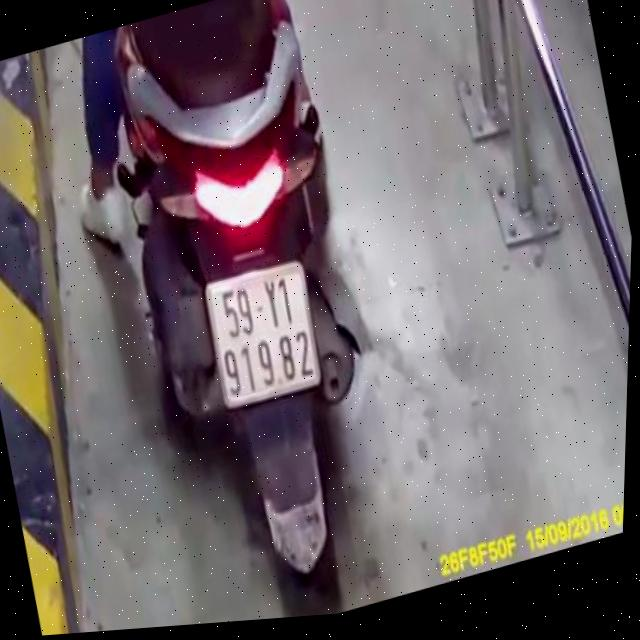motorcycle: (68, 0, 437, 634)
plate: (193, 252, 331, 419)
